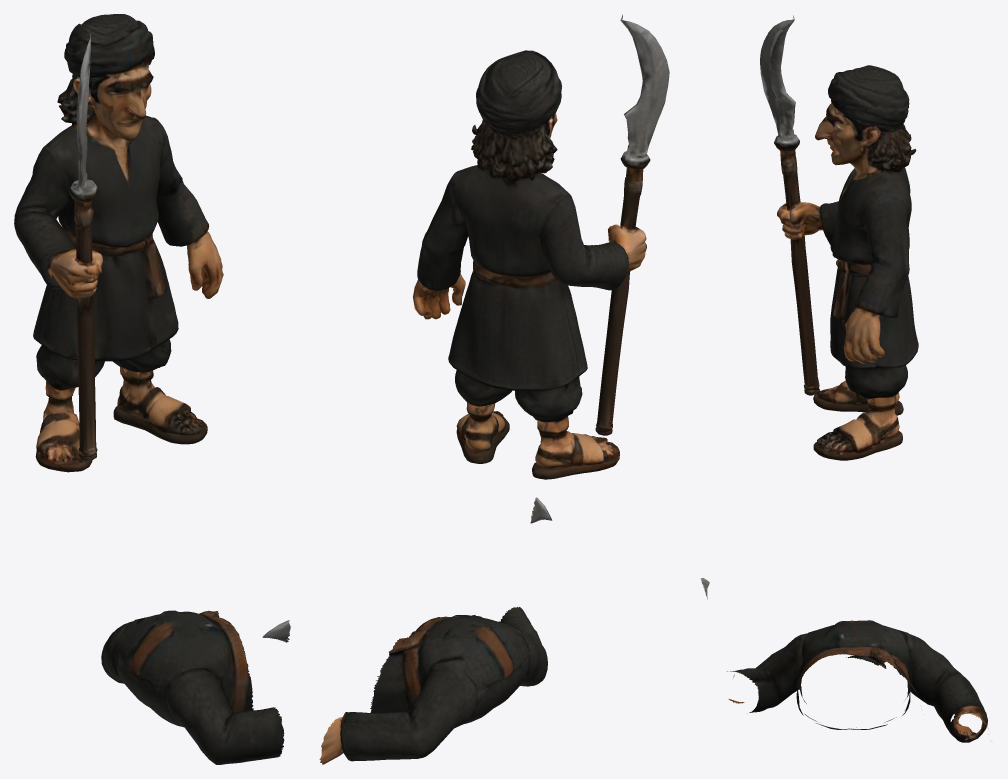
File: bandit_tripo_static.glb
The picture shows the model from 3 angles, left to right: view 1: azimuth 30°, elevation 25°; view 2: azimuth 150°, elevation 25°; view 3: azimuth 270°, elevation 25°; orthographic projection. The views are drawn at different scales.
Visible parts, largest first — view 1: DavidSingleUnifiedNode; view 2: DavidSingleUnifiedNode; view 3: DavidSingleUnifiedNode.
Boxes of the visible parts, <box> form: DavidSingleUnifiedNode: <box>14,14,290,764</box>; DavidSingleUnifiedNode: <box>319,14,669,764</box>; DavidSingleUnifiedNode: <box>700,15,991,742</box>.
Size of the model in its own units: 0.1898 by 0.607 by 0.2404.
Materials: 1 (1 with a texture image).
